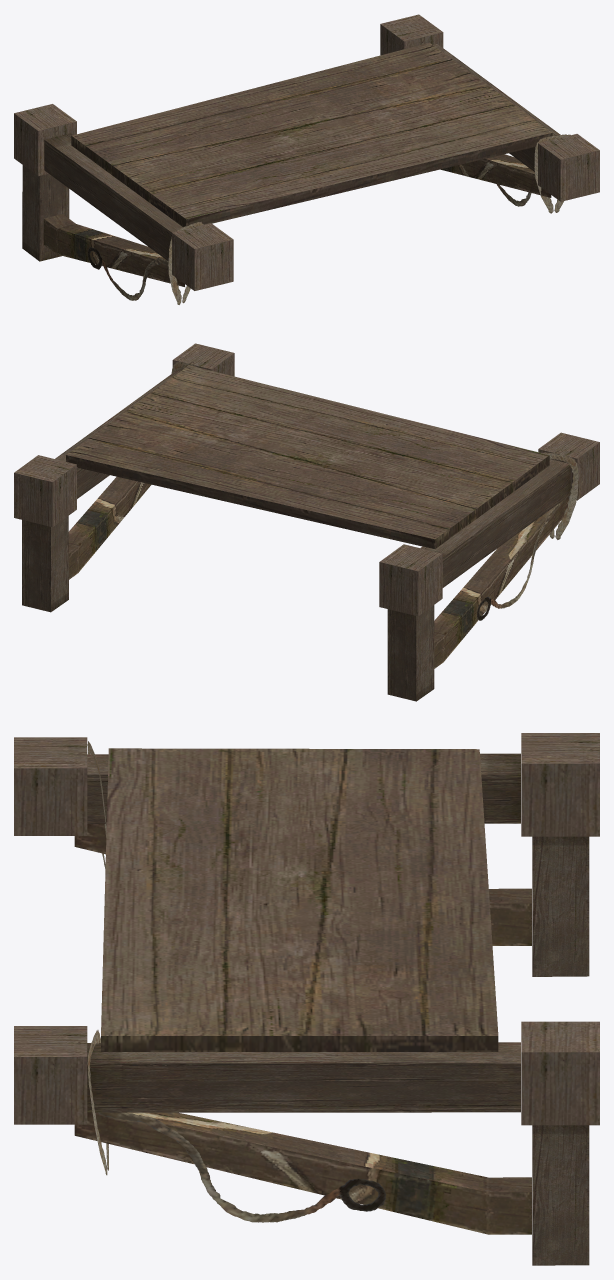
The model's file is bg_lut_mawport_pubinprop03_sm_artree.FBX.
3 views of the same model, one above another, from view 1: azimuth 30°, elevation 25°; view 2: azimuth 150°, elevation 25°; view 3: azimuth 270°, elevation 25° (orthographic). The views are drawn at different scales.
Parts seen in each view (by area): view 1: bg_lut_mawport_pubinprop03_sm_artree; view 2: bg_lut_mawport_pubinprop03_sm_artree; view 3: bg_lut_mawport_pubinprop03_sm_artree.
Boxes of the visible parts, bbox=[...] form: bg_lut_mawport_pubinprop03_sm_artree: bbox=[14, 14, 599, 304]; bg_lut_mawport_pubinprop03_sm_artree: bbox=[14, 343, 599, 701]; bg_lut_mawport_pubinprop03_sm_artree: bbox=[14, 733, 599, 1265].
Bounding box in the file's own units: 94.5 × 29.74 × 71.94.
